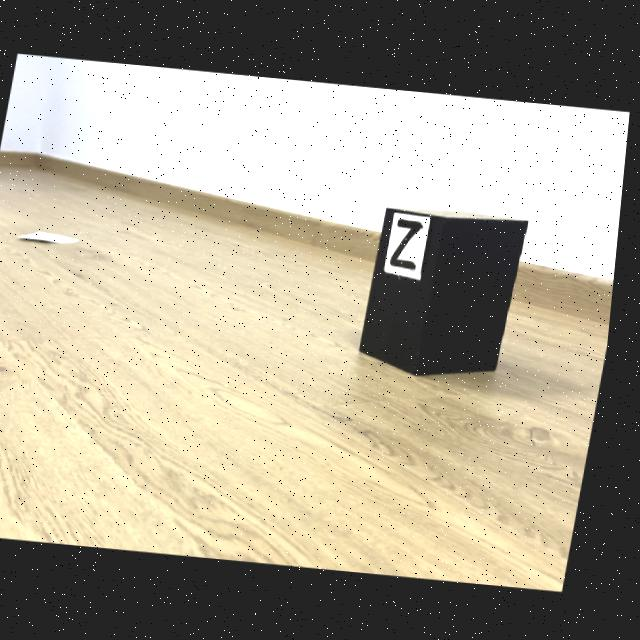Z: (395, 218, 426, 270)
